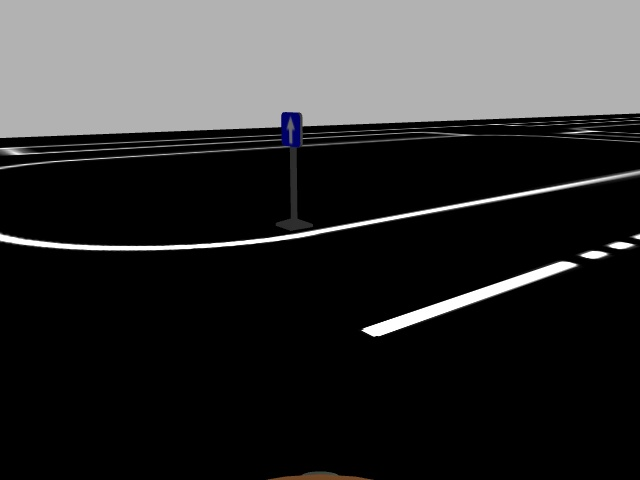oneway: (278, 109, 304, 151)
